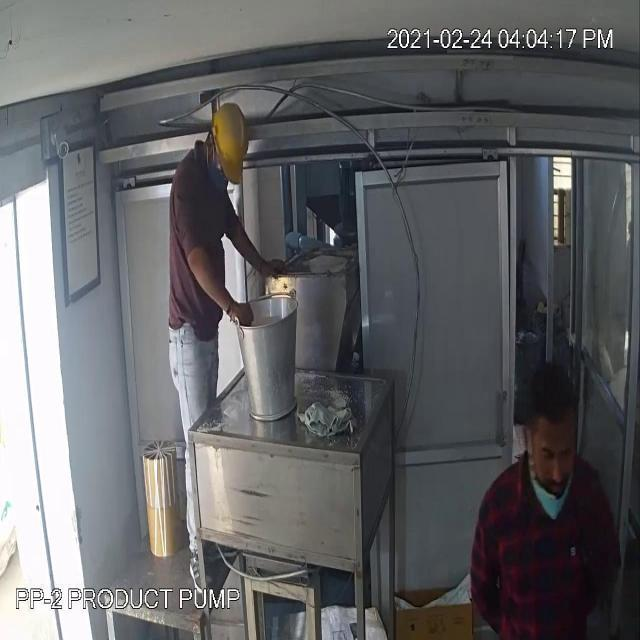hat: (208, 90, 252, 186)
no hat: (518, 350, 588, 490)
